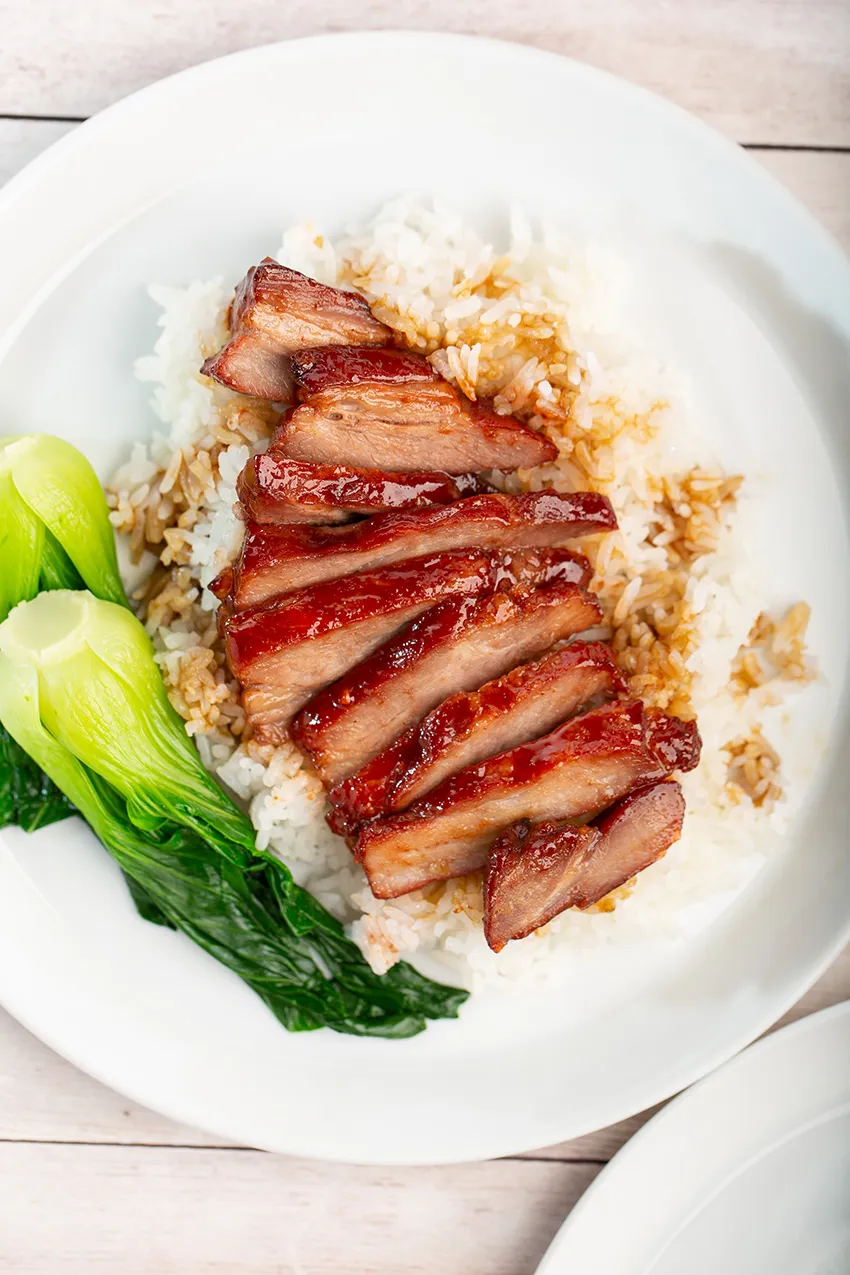char-siu: (214, 260, 704, 947)
